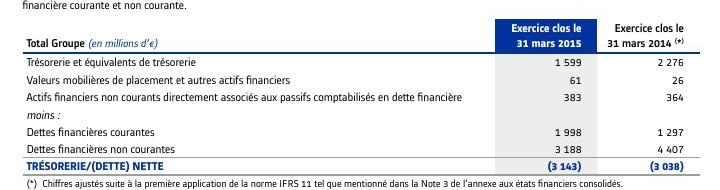table: (0, 0, 720, 190)
